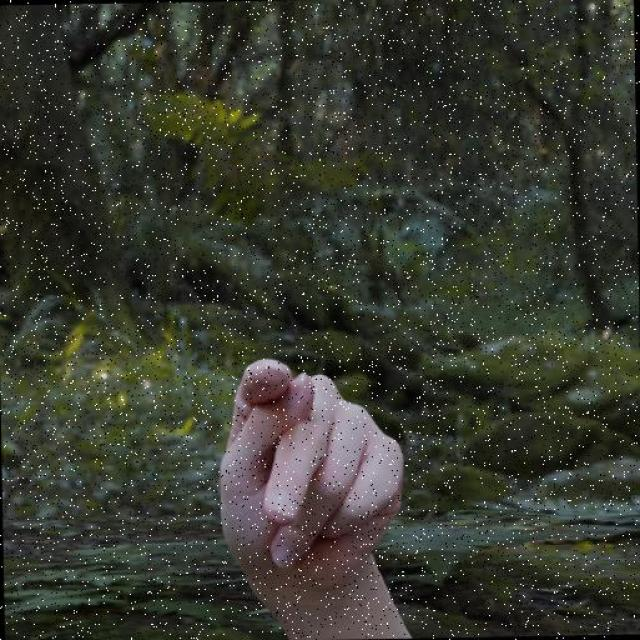P: (213, 353, 410, 599)
